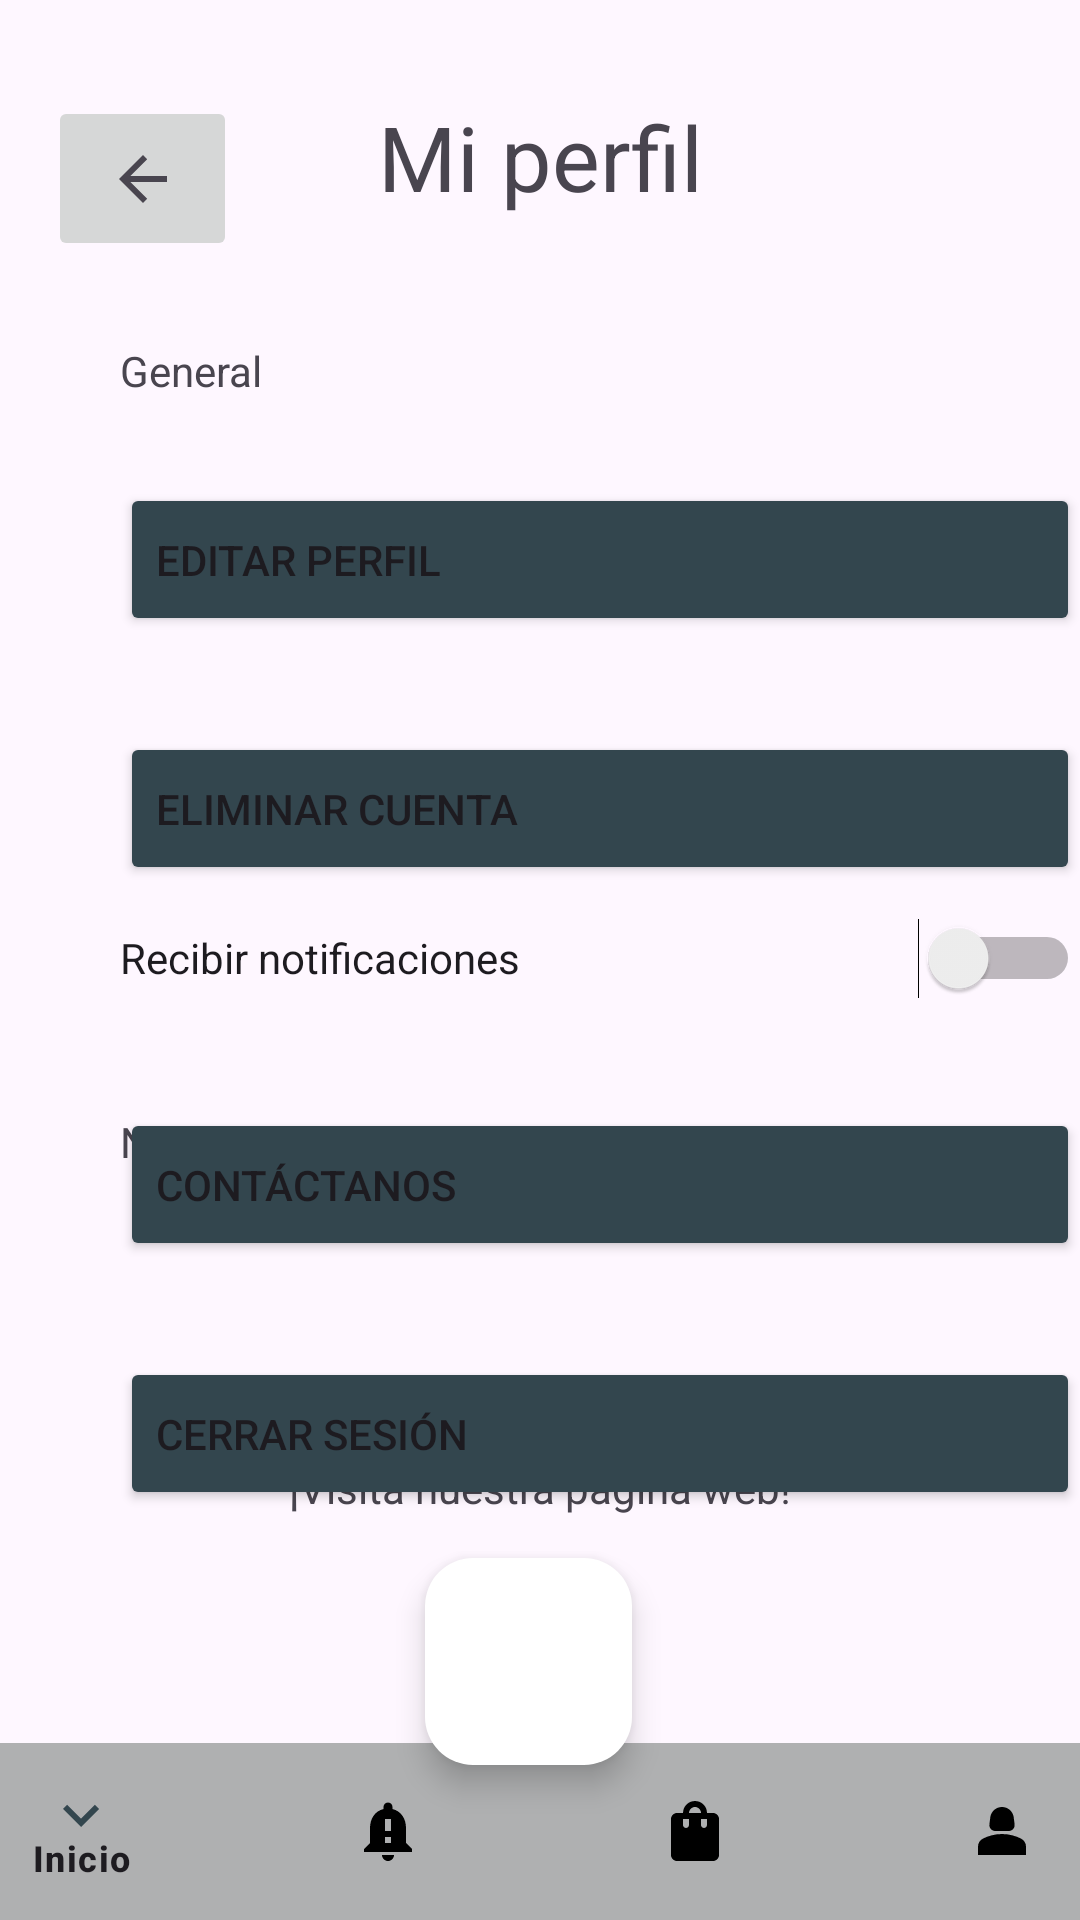

Where icons sit on this 1080w x 1920h app screen, as (x1, y1, x2, y2):
Ir hacia atrás: (60, 114, 225, 243)
